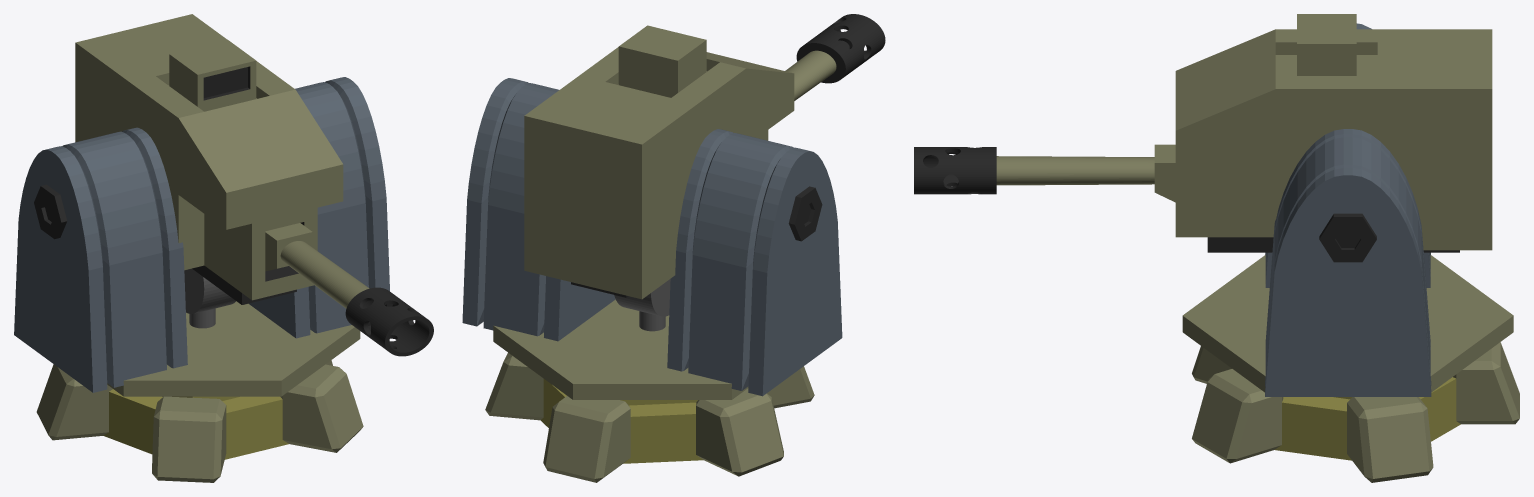
The model's file is Turret.fbx.
3 views of the same model, side by side, from view 1: azimuth 30°, elevation 25°; view 2: azimuth 150°, elevation 25°; view 3: azimuth 270°, elevation 25° (orthographic). The views are drawn at different scales.
Parts seen in each view (by area): view 1: Cylinder.004, Cylinder.003, Cube.003, Cylinder.002, Cylinder, Cylinder.001; view 2: Cylinder.004, Cylinder.003, Cube.003, Cylinder.002, Cylinder, Cylinder.001; view 3: Cylinder.003, Cylinder.004, Cube.003, Cylinder.002, Cylinder, Cylinder.001.
Part boxes in pixels (x1,y1,x2,y2): Cylinder.004: (14,77,389,392); Cylinder.003: (75,14,433,356); Cube.003: (36,360,363,482); Cylinder.002: (107,301,360,396); Cylinder: (103,389,288,459); Cylinder.001: (34,184,67,239); Cylinder.004: (462,78,842,396); Cylinder.003: (524,14,885,299); Cube.003: (485,352,814,482); Cylinder.002: (493,299,748,399); Cylinder: (540,379,703,463); Cylinder.001: (788,186,822,241); Cylinder.003: (914,14,1492,252); Cylinder.004: (1265,23,1431,396); Cube.003: (1192,342,1519,482); Cylinder.002: (1182,255,1513,392); Cylinder: (1274,377,1460,460); Cylinder.001: (1319,213,1376,262).
Bounding box in the file's own units: 247 × 278 × 398.
